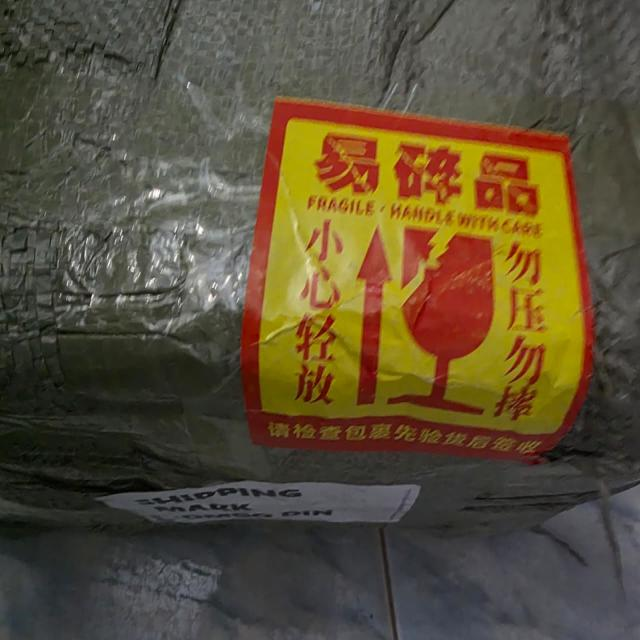fragile_label: (396, 211, 501, 425)
this_side_up_label: (346, 212, 397, 414)
